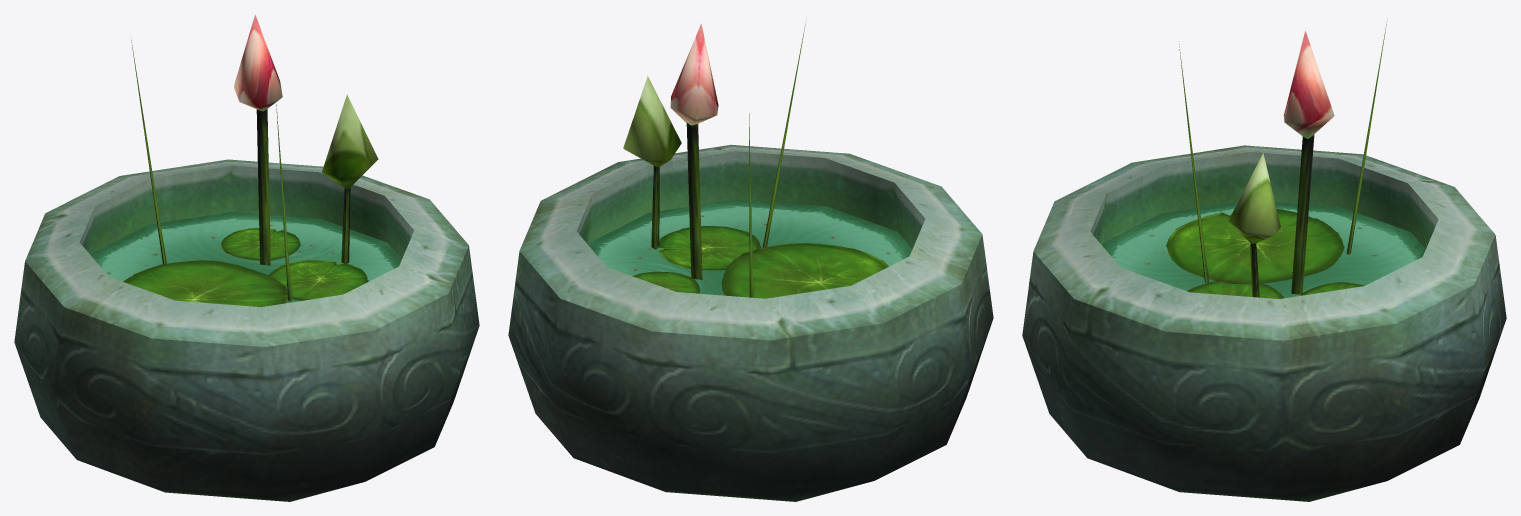
File: wm_灌木荷花坛子03.fbx
3 views of the same model, side by side, from view 1: azimuth 30°, elevation 25°; view 2: azimuth 150°, elevation 25°; view 3: azimuth 270°, elevation 25° (orthographic). The views are drawn at different scales.
Visible parts, largest first — view 1: wm_灌木荷花坛子03; view 2: wm_灌木荷花坛子03; view 3: wm_灌木荷花坛子03.
Part boxes in pixels (x1,y1,x2,y2): wm_灌木荷花坛子03: [14, 14, 479, 501]; wm_灌木荷花坛子03: [508, 18, 993, 501]; wm_灌木荷花坛子03: [1022, 18, 1506, 501].
Size of the model in its own units: 106 by 105 by 106.
